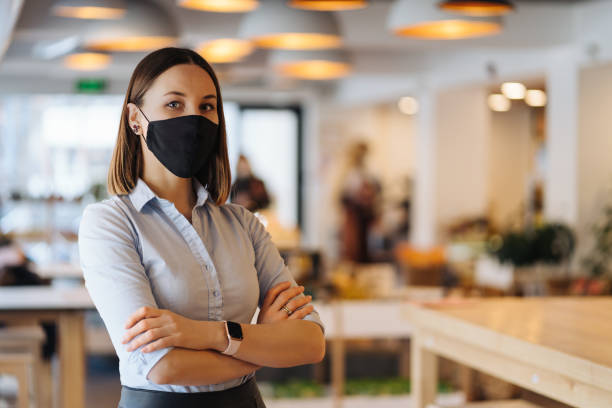with mask: (131, 58, 231, 185)
